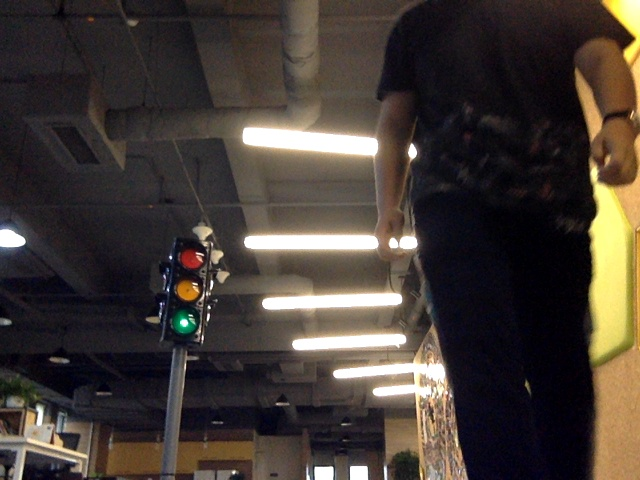green: (169, 241, 203, 334)
